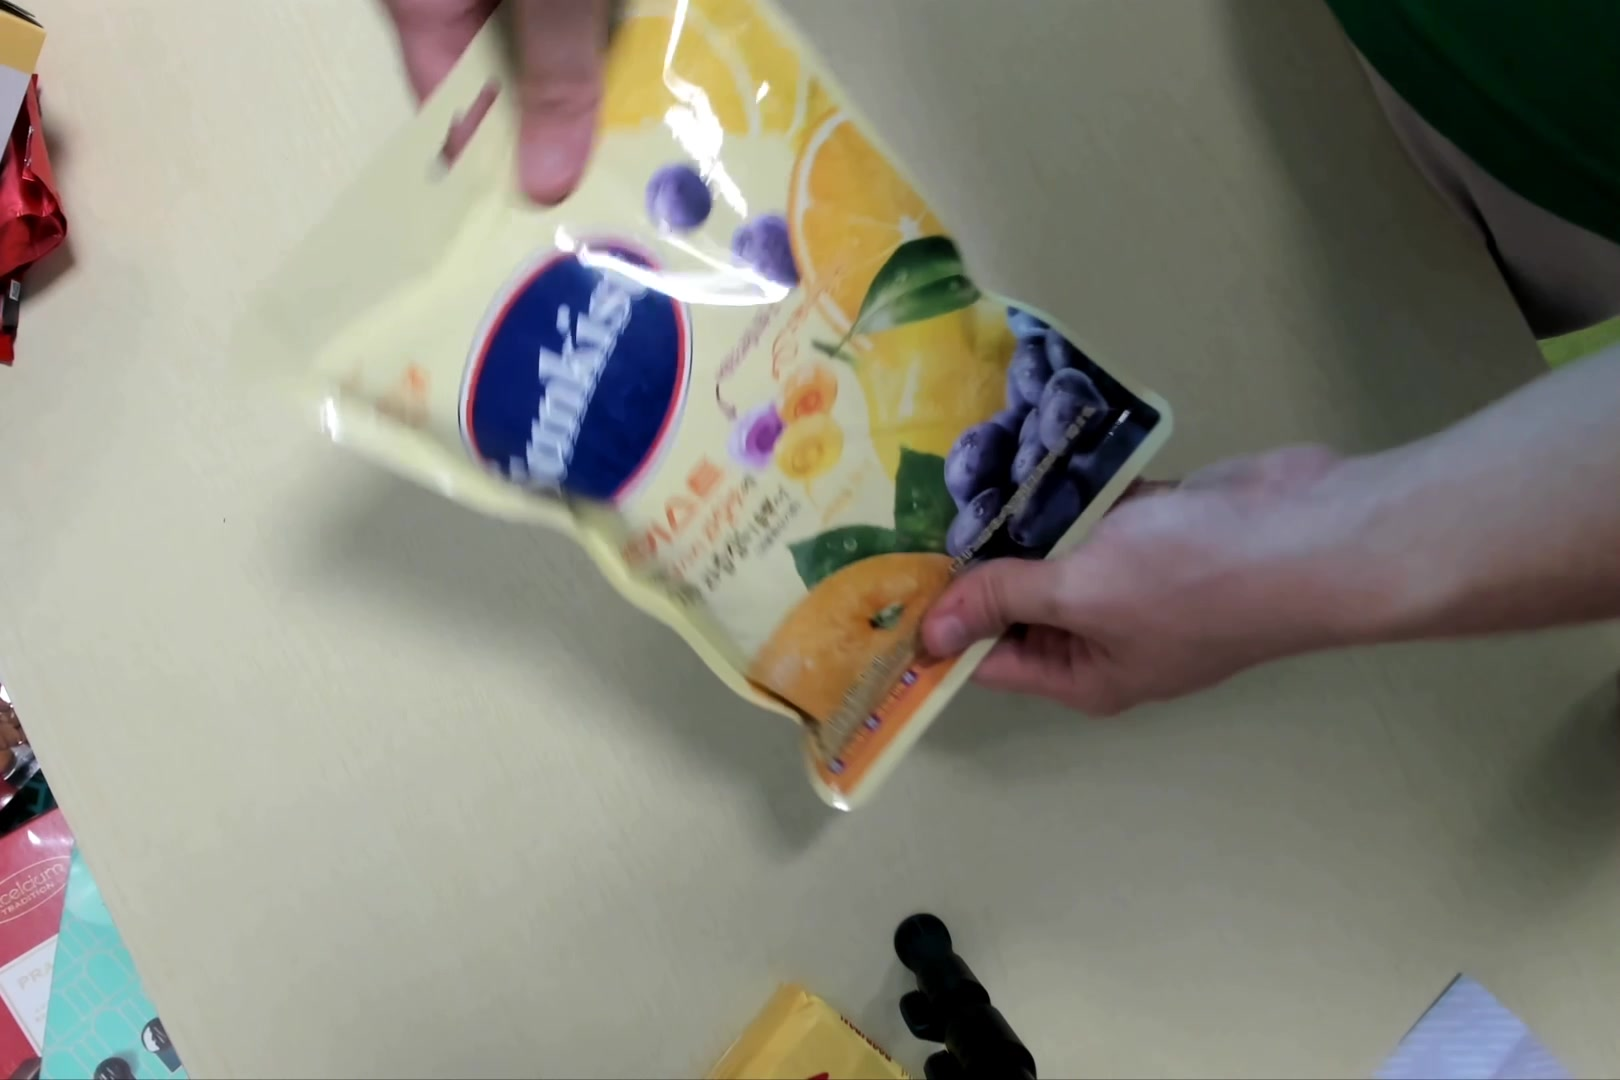SweetsChocolatesOthers_100-199g_NonHalal_NonHealthy: (242, 6, 1174, 818)
